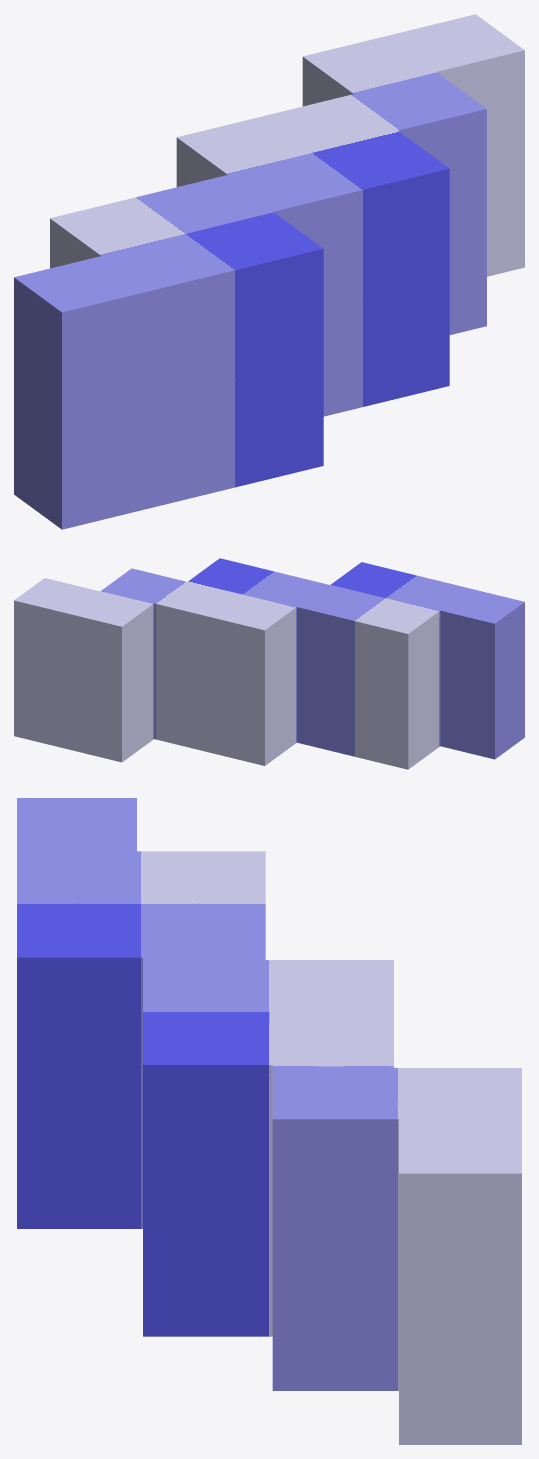
File: garbage_415x10.gltf
3 views of the same model, one above another, from view 1: azimuth 30°, elevation 25°; view 2: azimuth 150°, elevation 25°; view 3: azimuth 270°, elevation 25° (orthographic). The views are drawn at different scales.
Parts seen in each view (by area): view 1: garbage_415x10; view 2: garbage_415x10; view 3: garbage_415x10.
Boxes of the visible parts, bbox=[...] form: garbage_415x10: bbox=[14, 14, 524, 529]; garbage_415x10: bbox=[14, 558, 524, 769]; garbage_415x10: bbox=[17, 798, 521, 1444].
Size of the model in its own units: 0.4342 by 0.1463 by 0.2469.
1 material, 1 textured.
